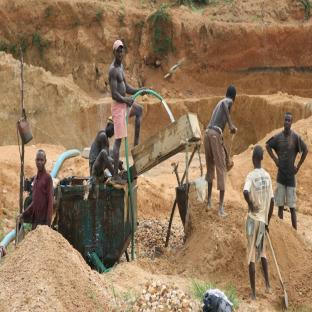Person: (266, 104, 308, 229), (108, 38, 143, 186), (243, 141, 276, 297), (205, 77, 237, 216), (29, 150, 55, 229)
ProcessingEquipment: (56, 111, 201, 274)
